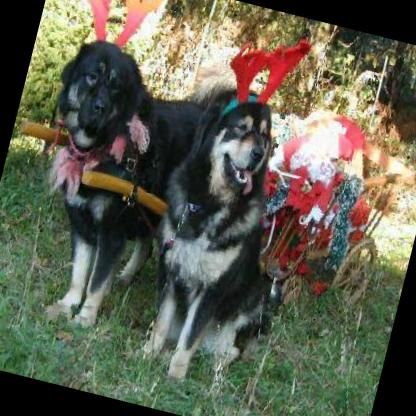Tibetan_mastiff: (1, 31, 246, 353), (118, 71, 322, 401)
